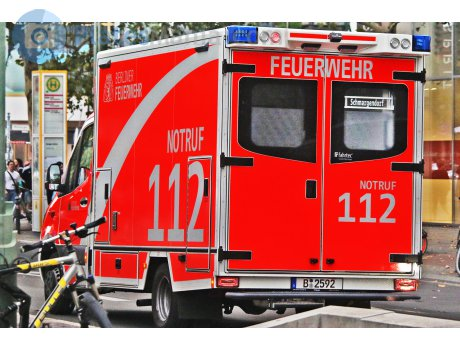License Plates: (296, 273, 346, 289)
